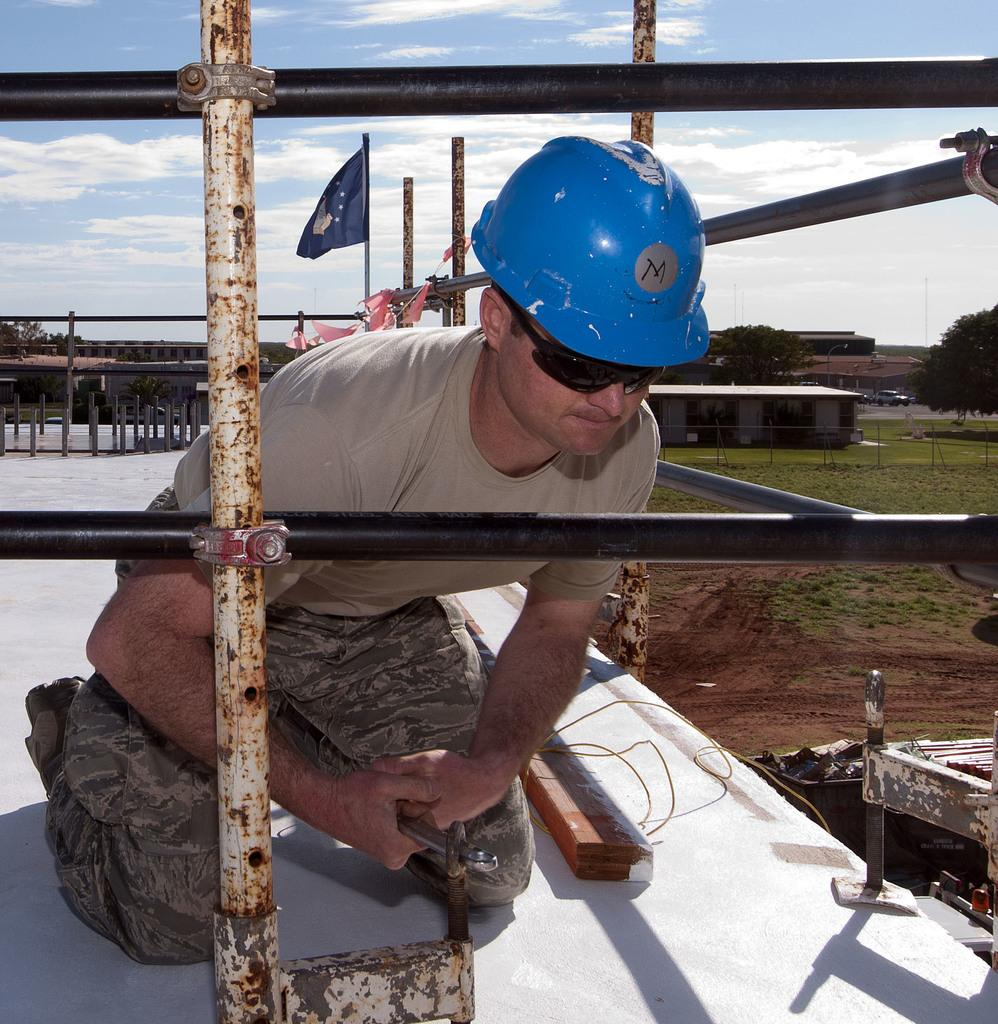helmet: (471, 135, 710, 452)
